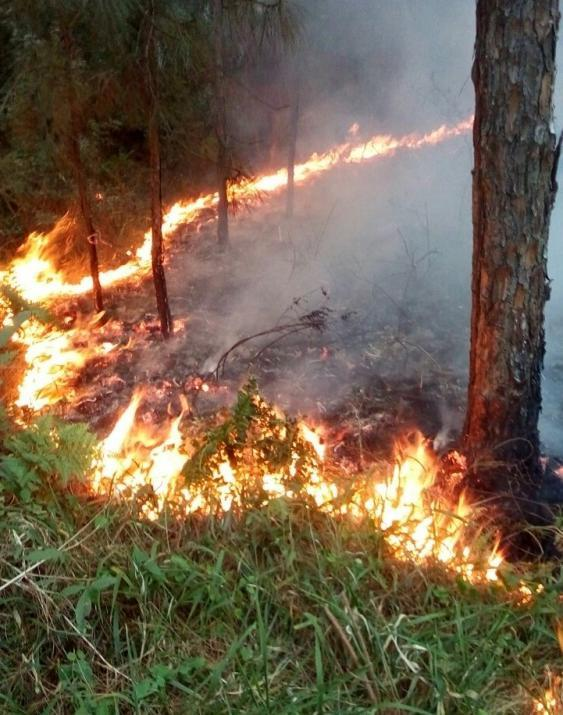Fire: (8, 115, 471, 304), (83, 424, 520, 588), (13, 314, 151, 420)
